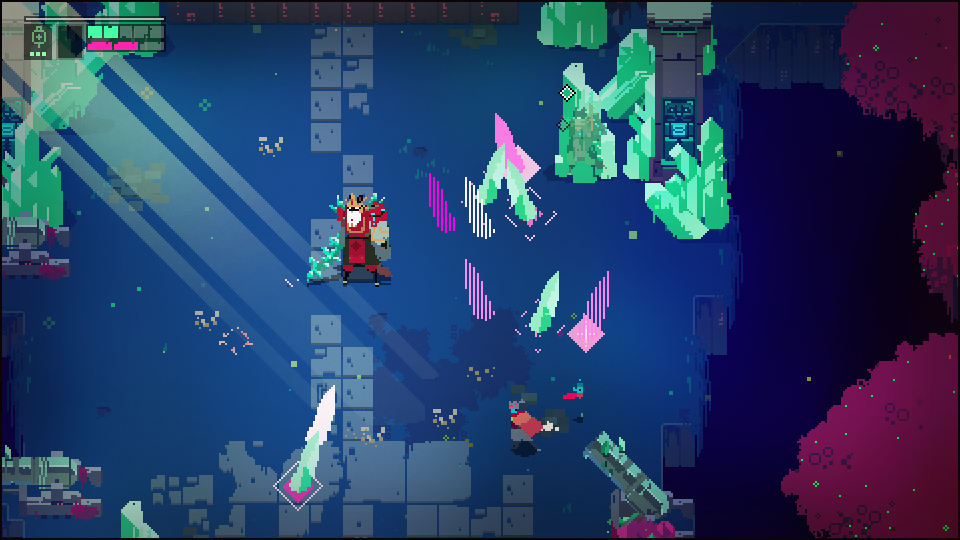hanged_crys: (574, 268, 613, 340), (524, 269, 562, 334), (463, 255, 498, 324), (470, 146, 505, 208), (507, 162, 540, 226), (290, 432, 324, 491), (428, 170, 456, 235)
hanged_man: (310, 194, 389, 288)
player: (507, 400, 547, 449)
